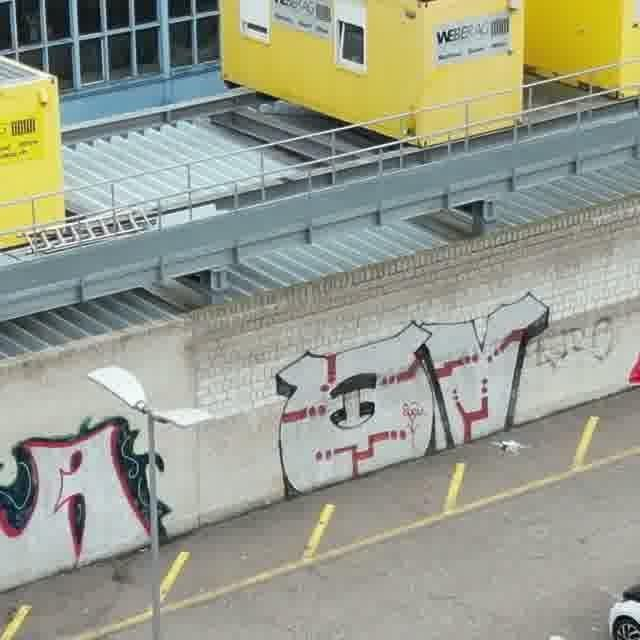Drohne: (492, 440, 529, 453)
